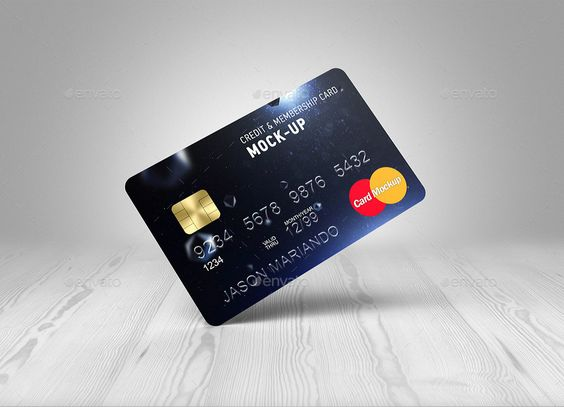tarjeta: (124, 67, 427, 327)
